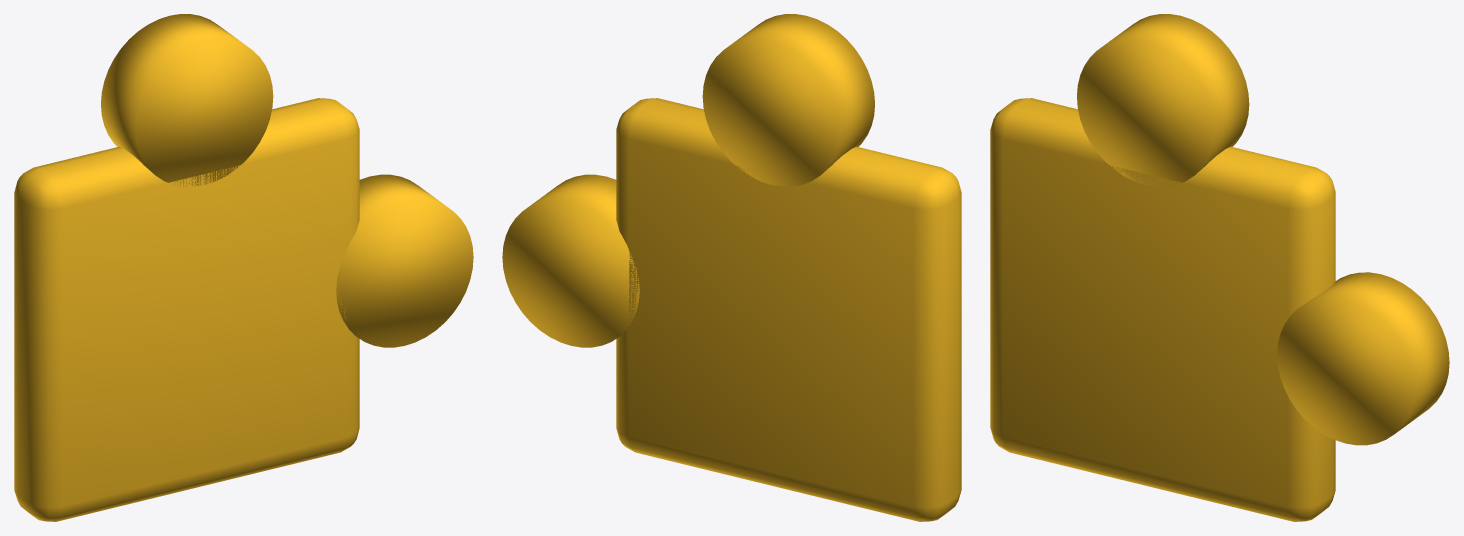
File: puzzle_yellow.glb
The picture shows the model from 3 angles, left to right: view 1: azimuth 30°, elevation 25°; view 2: azimuth 150°, elevation 25°; view 3: azimuth 330°, elevation 25°; orthographic projection.
Parts seen in each view (by area): view 1: puzzle_yellow; view 2: puzzle_yellow; view 3: puzzle_yellow.
Part boxes in pixels (x1,y1,x2,y2): puzzle_yellow: (14,14,473,521); puzzle_yellow: (502,14,961,521); puzzle_yellow: (990,14,1449,521).
Size of the model in its own units: 0.606 by 0.606 by 0.085.
